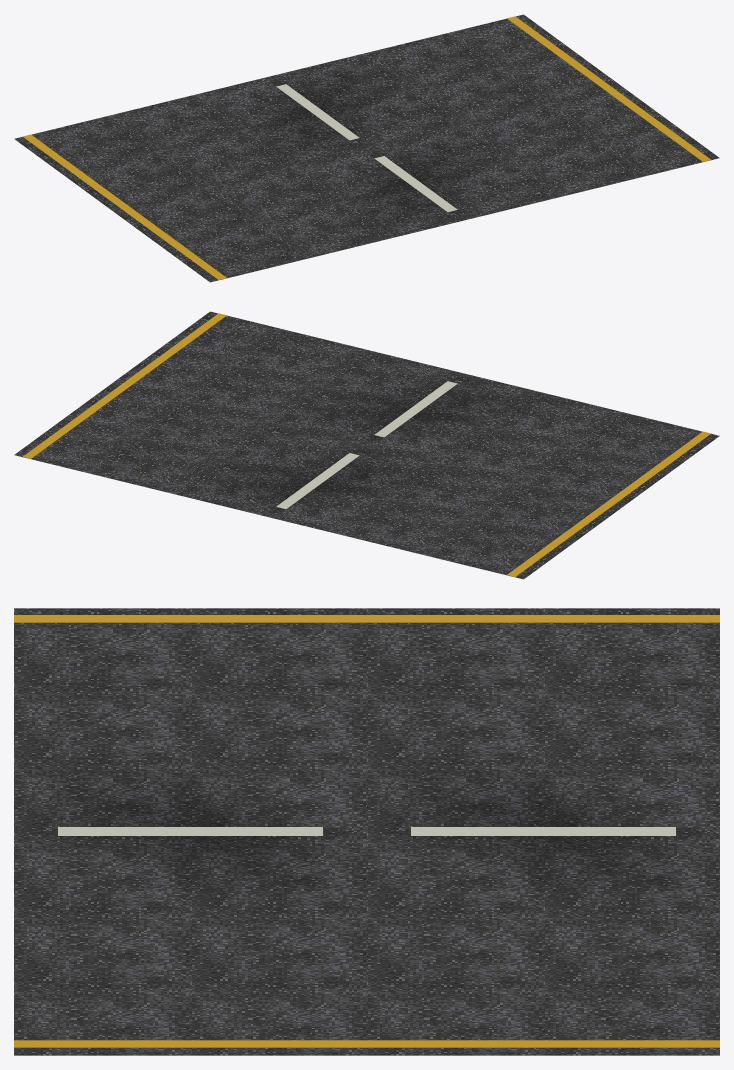
File: road.glb
3 renders of one model, top to bottom at view 1: azimuth 30°, elevation 25°; view 2: azimuth 150°, elevation 25°; view 3: azimuth 270°, elevation 25°, orthographic. The views are drawn at different scales.
Parts seen in each view (by area): view 1: road; view 2: road; view 3: road.
Part boxes in pixels (x1,y1,x2,y2): road: (14,14,719,282); road: (14,311,719,579); road: (14,608,719,1055).
Bounding box in the file's own units: 6 × 0.0035 × 4.
1 material, 1 textured.
